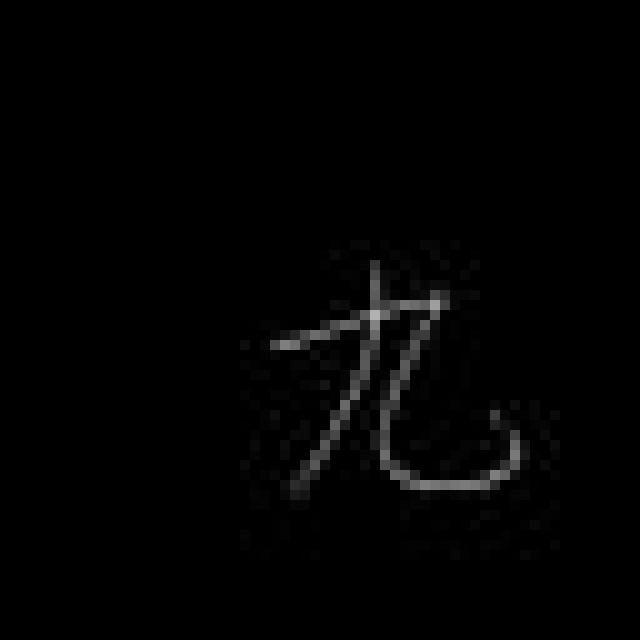9 -nine-: (271, 257, 534, 503)
